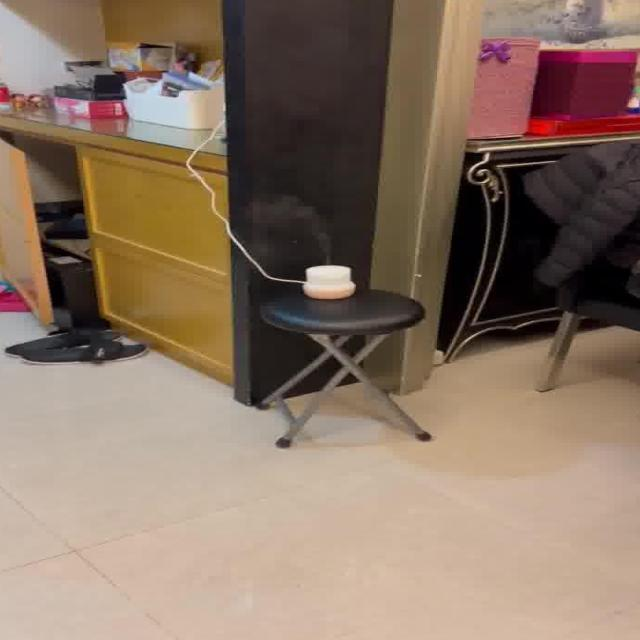fire: (252, 200, 343, 260)
